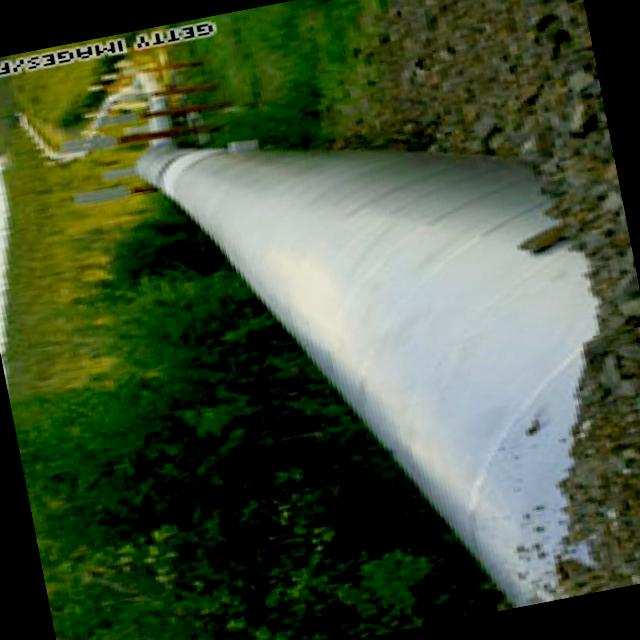gas: (139, 147, 595, 607)
